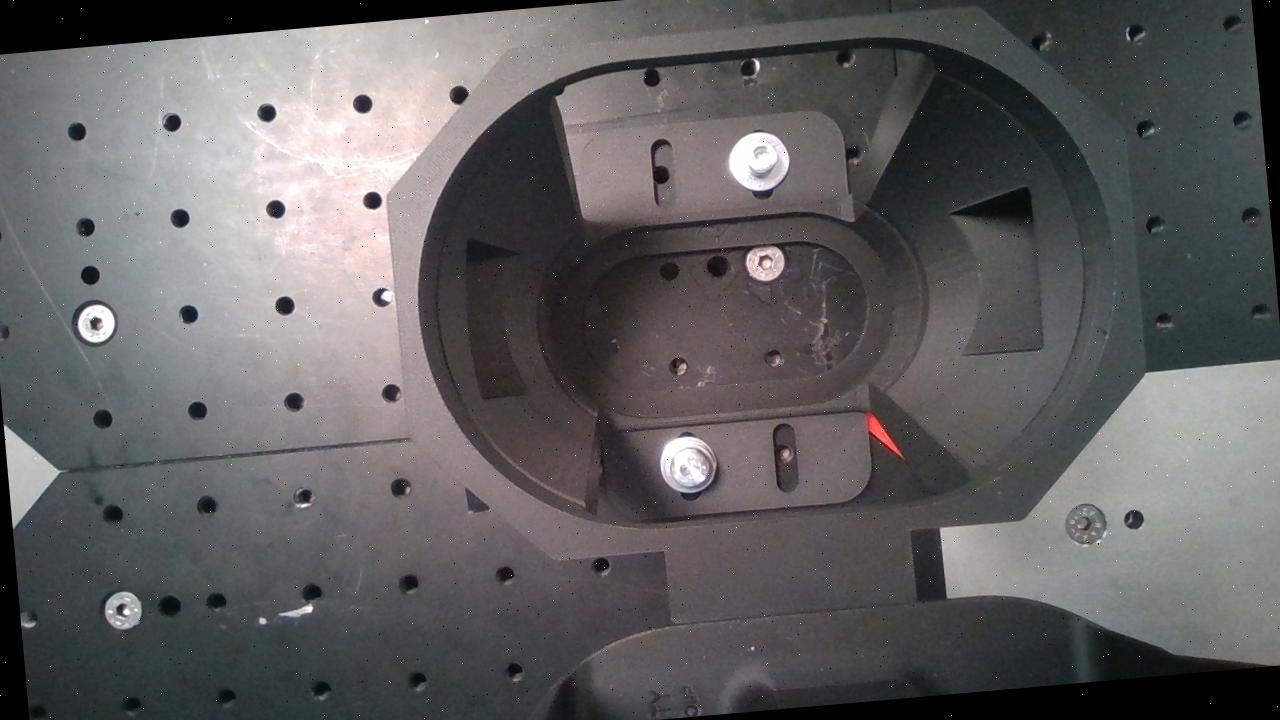big_interface: (375, 0, 1158, 572)
